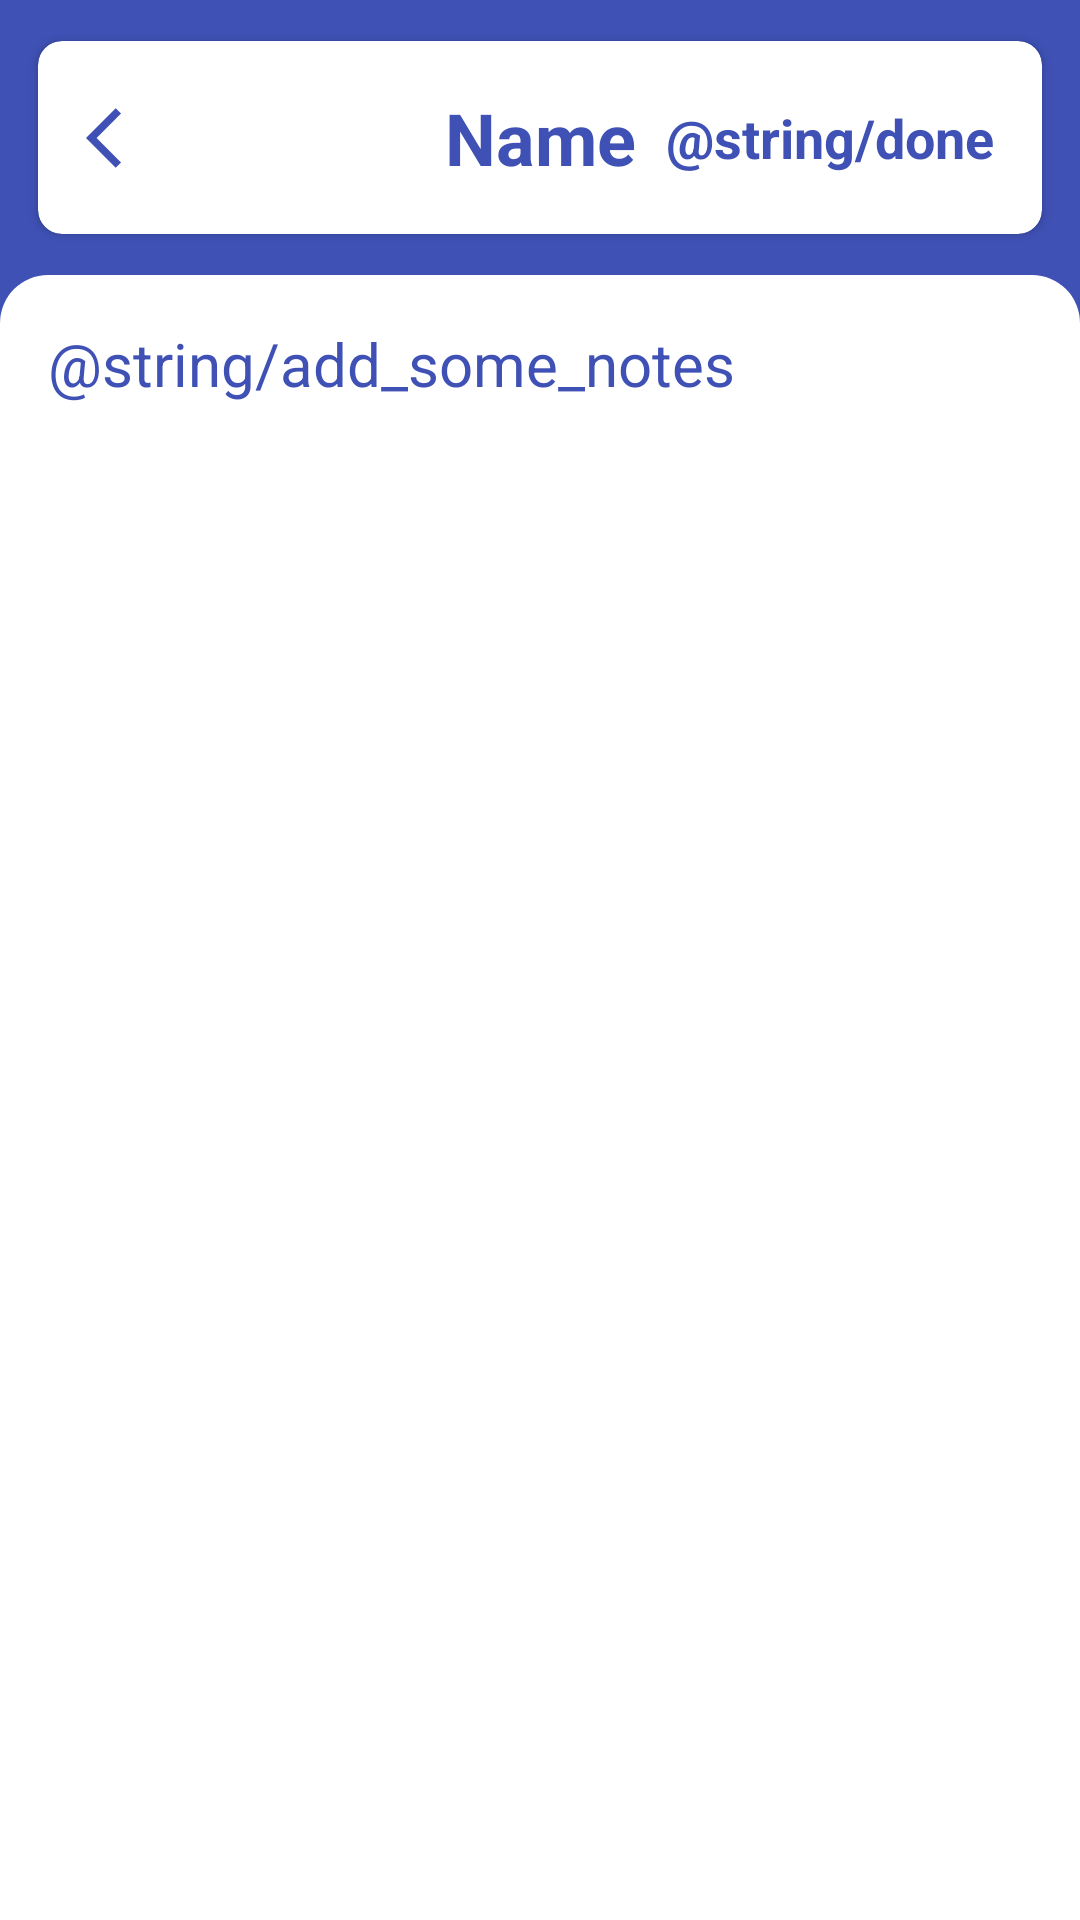

Screen size 1080*1920. Icon name, then its center in pixels as (x,y):
arrow back: (122,137)
